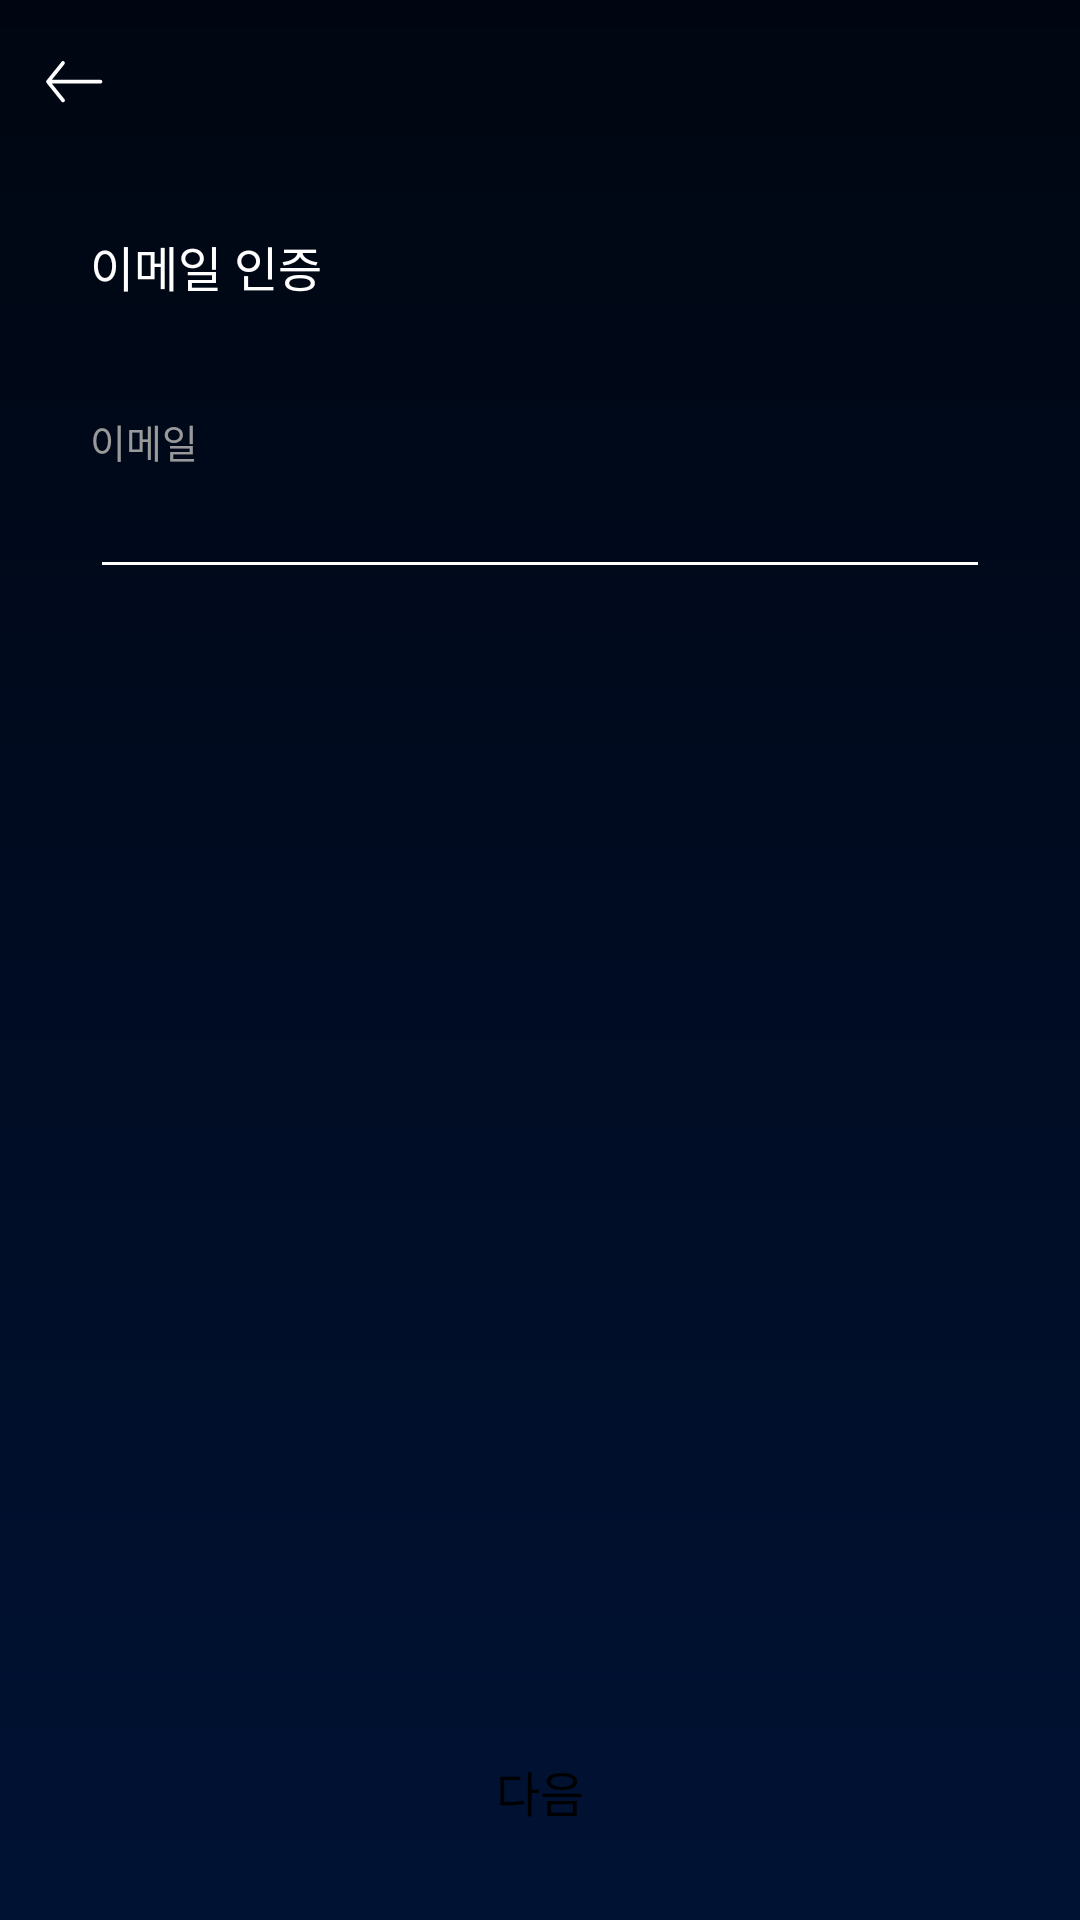

Where icons sit on this 1080 × 1920 app screen, as detection(x1, y1, x2, y2):
back: detection(46, 61, 103, 103)
